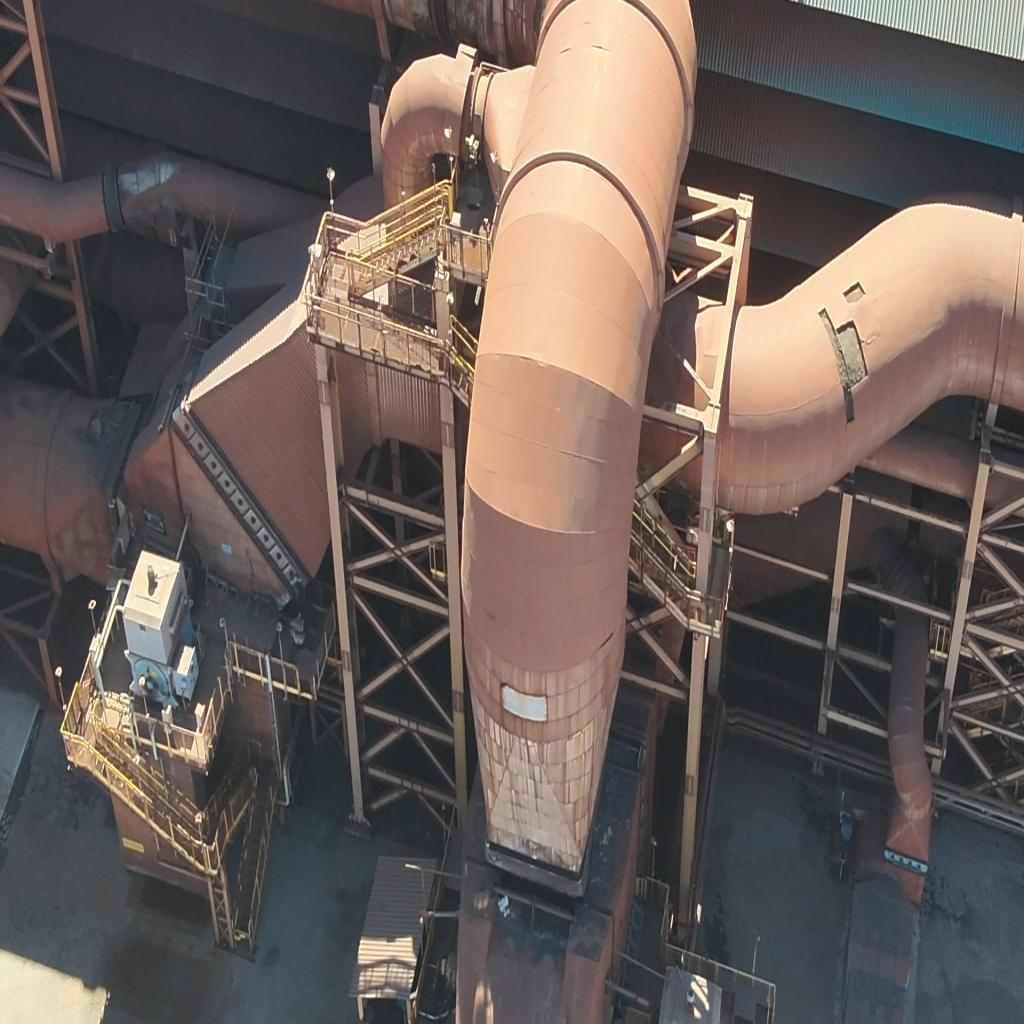Failures: (820, 310, 870, 430), (843, 283, 864, 306)
